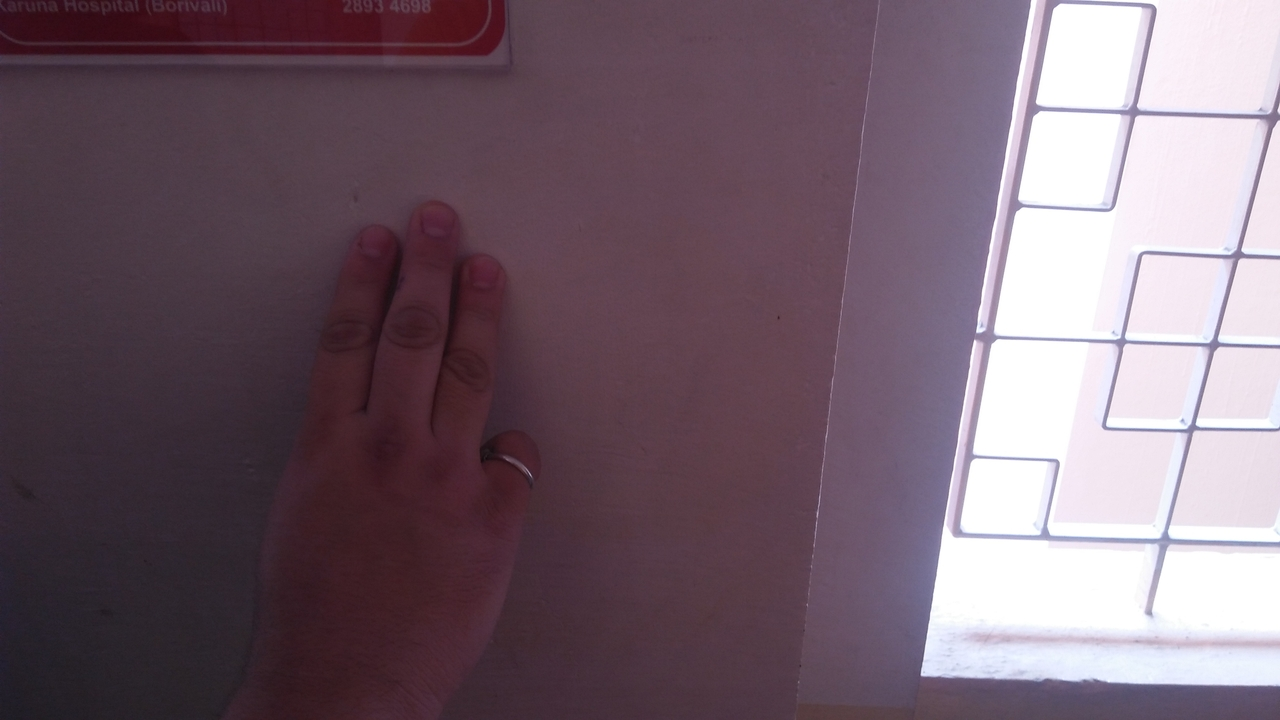fingertip: (390, 194, 464, 248), (340, 218, 403, 266), (457, 251, 521, 293)
